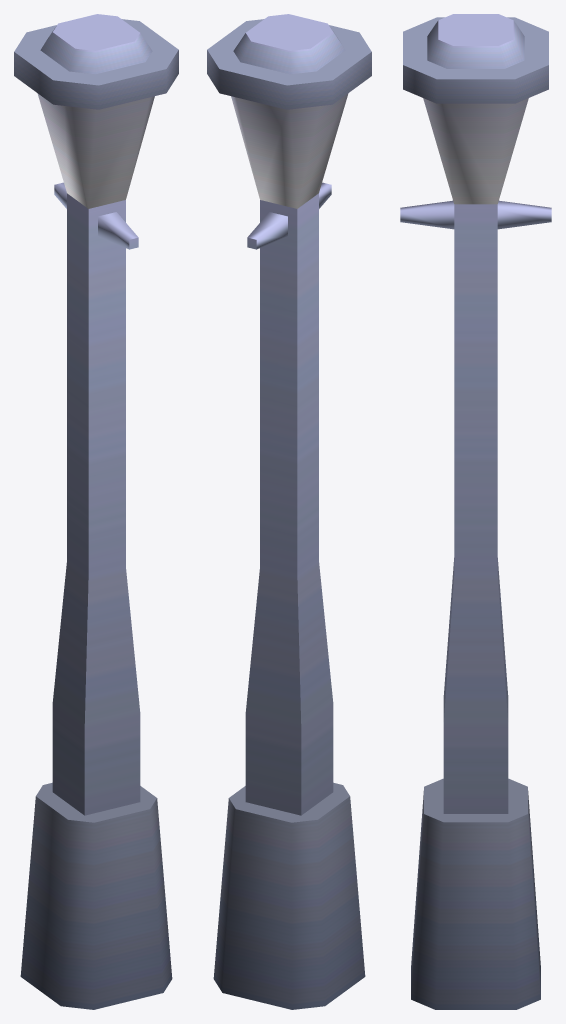
File: lantern.glb
3 views of the same model, side by side, from view 1: azimuth 30°, elevation 25°; view 2: azimuth 150°, elevation 25°; view 3: azimuth 270°, elevation 25° (orthographic).
Parts seen in each view (by area): view 1: lantern; view 2: lantern; view 3: lantern.
Part boxes in pixels (x1=…): lantern: x1=14, y1=14, x2=178, y2=1009; lantern: x1=207, y1=14, x2=371, y2=1009; lantern: x1=400, y1=14, x2=551, y2=1009.
Bounding box in the file's own units: 0.2164 × 1.56 × 0.2243.
Materials: 1 (1 with a texture image).
